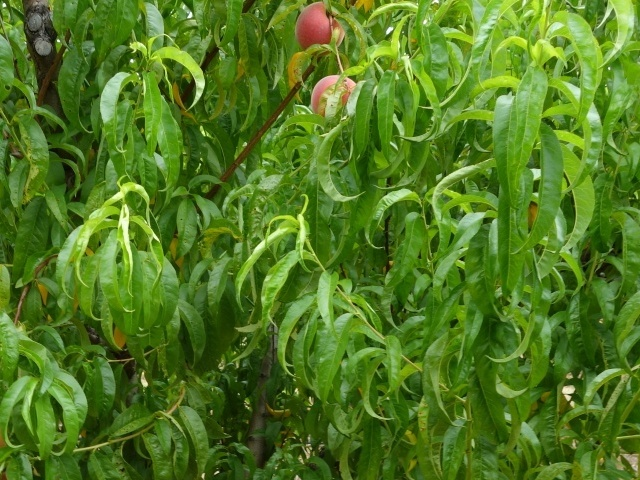peach: (293, 3, 347, 56), (307, 71, 359, 116)
